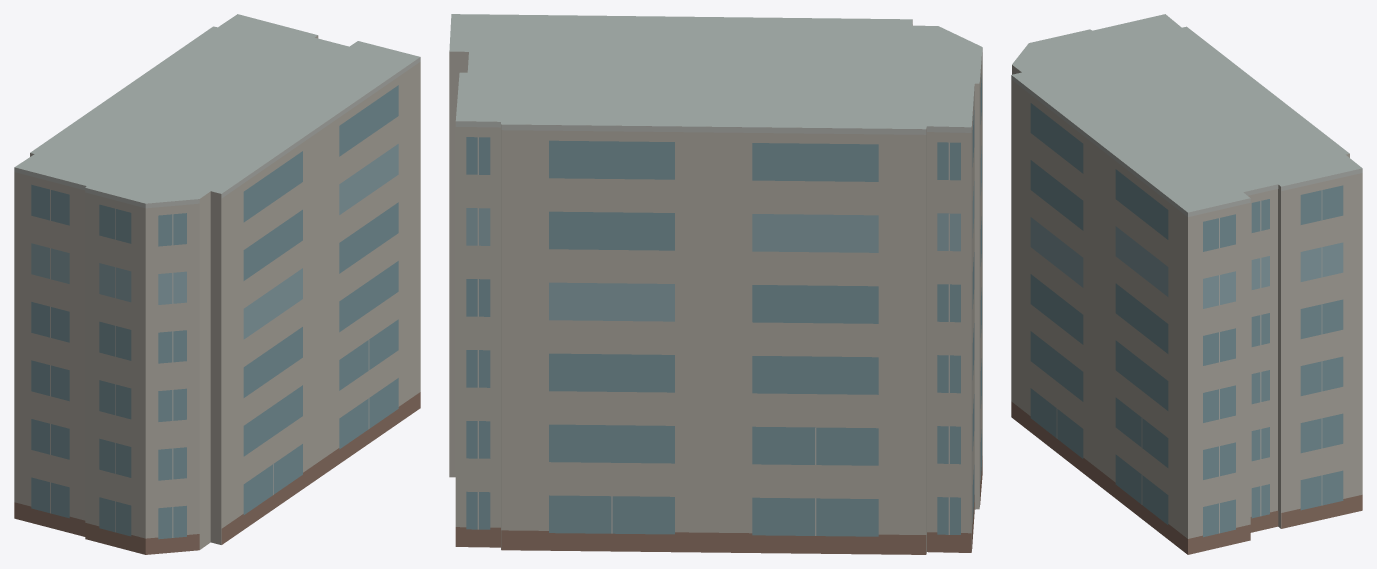
File: survey-upis-32906347.glb
3 renders of one model, left to right at view 1: azimuth 30°, elevation 25°; view 2: azimuth 150°, elevation 25°; view 3: azimuth 270°, elevation 25°, orthographic. The views are drawn at different scales.
Visible parts, largest first — view 1: survey-upis-32906347.tmp; view 2: survey-upis-32906347.tmp; view 3: survey-upis-32906347.tmp.
Boxes of the visible parts, x1,y1,x2,y2 form: survey-upis-32906347.tmp: [14, 14, 420, 554]; survey-upis-32906347.tmp: [449, 14, 982, 554]; survey-upis-32906347.tmp: [1011, 14, 1362, 554].
Bounding box in the file's own units: 22.79 × 18.3 × 17.04.
